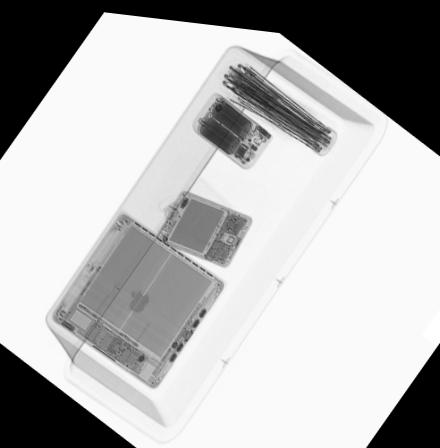Powerbank: (186, 85, 273, 166)
